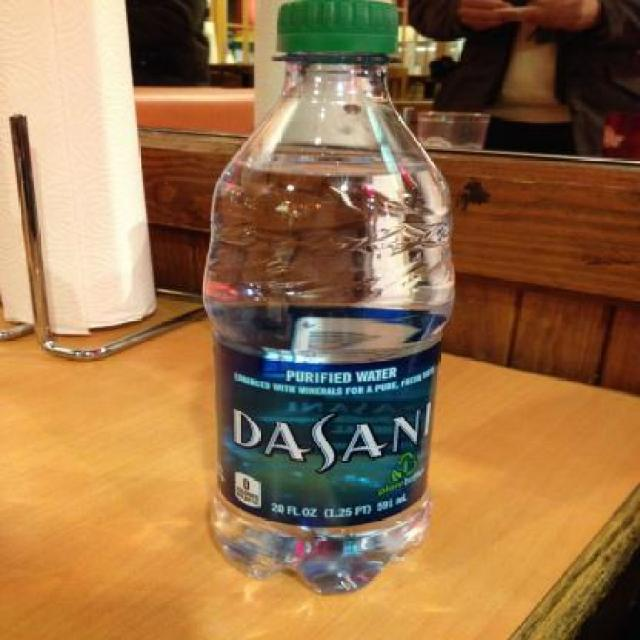bottle: (173, 0, 444, 606)
